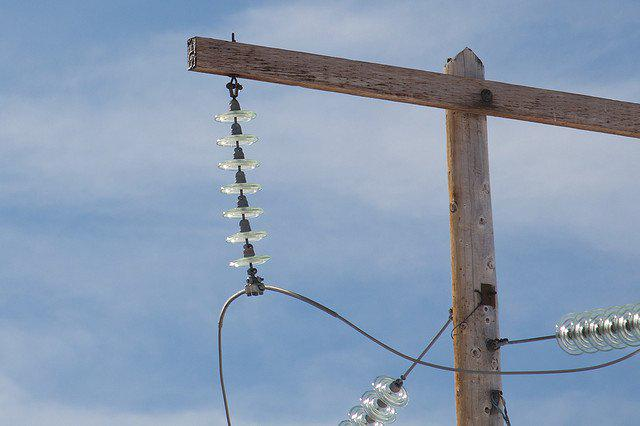isolator: (214, 109, 272, 270), (555, 301, 640, 357), (337, 374, 409, 426)
